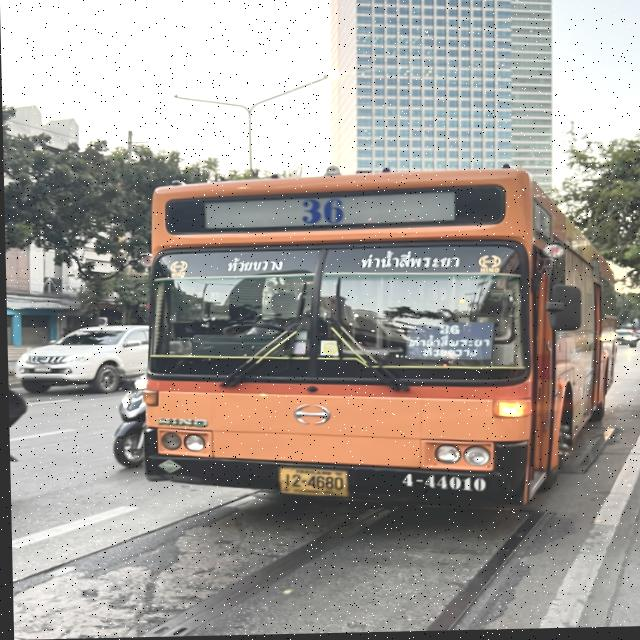BMTA-bus: (107, 170, 622, 515)
Bus-Line-Number: (289, 193, 352, 232)
Destination-Sign-Normal: (402, 318, 493, 366)
